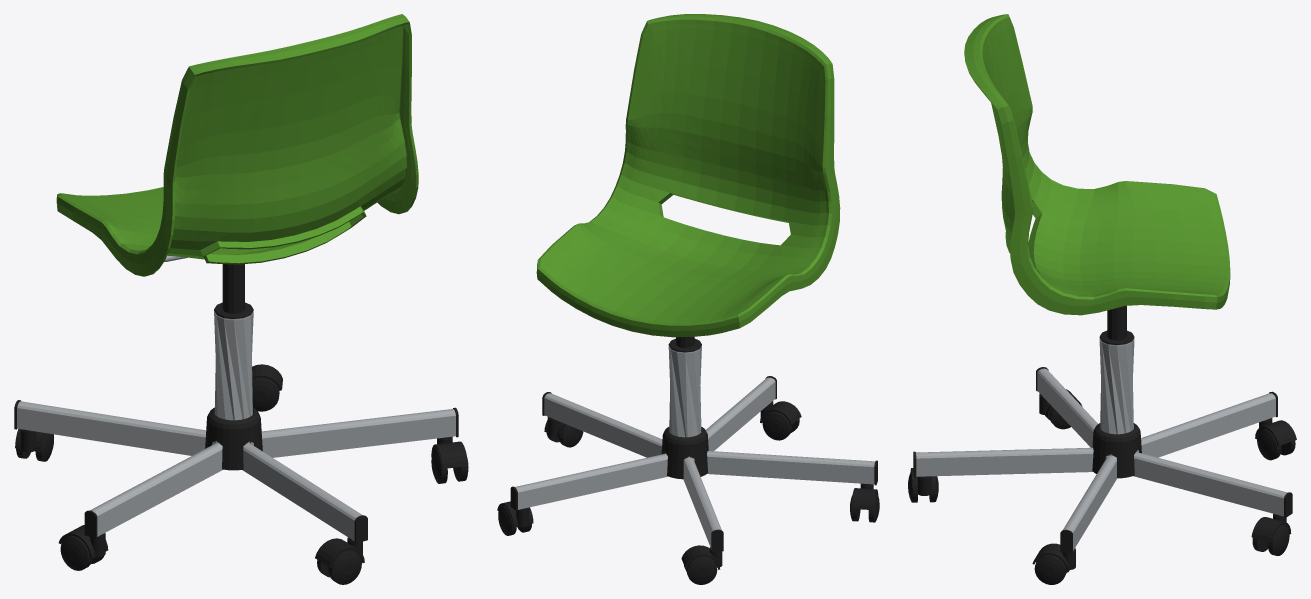
The picture shows the model from 3 angles, left to right: view 1: azimuth 30°, elevation 25°; view 2: azimuth 150°, elevation 25°; view 3: azimuth 270°, elevation 25°; orthographic projection. The views are drawn at different scales.
Visible parts, largest first — view 1: Mesh2 Group2 SNILLE_IKEA1 Model, Mesh8 Group6 SNILLE_IKEA1 Model, Mesh7 Group5 SNILLE_IKEA1 Model, Mesh1 Group1 SNILLE_IKEA1 Model, Mesh3 Group3 SNILLE_IKEA1 Model, Mesh20 ROULETTE4 SNILLE_IKEA1 Model, Mesh11 ROULETTE1 SNILLE_IKEA1 Model, Mesh12 ROULETTE2 SNILLE_IKEA1 Model, Mesh16 ROULETTE3 SNILLE_IKEA1 Model, Mesh18 ROULETTE4 SNILLE_IKEA1 Model, Mesh9 ROULETTE1 SNILLE_IKEA1 Model; view 2: Mesh2 Group2 SNILLE_IKEA1 Model, Mesh8 Group6 SNILLE_IKEA1 Model, Mesh7 Group5 SNILLE_IKEA1 Model, Mesh1 Group1 SNILLE_IKEA1 Model, Mesh23 ROULETTE5 SNILLE_IKEA1 Model, Mesh19 ROULETTE4 SNILLE_IKEA1 Model, Mesh9 ROULETTE1 SNILLE_IKEA1 Model, Mesh18 ROULETTE4 SNILLE_IKEA1 Model, Mesh21 ROULETTE5 SNILLE_IKEA1 Model; view 3: Mesh2 Group2 SNILLE_IKEA1 Model, Mesh8 Group6 SNILLE_IKEA1 Model, Mesh7 Group5 SNILLE_IKEA1 Model, Mesh1 Group1 SNILLE_IKEA1 Model, Mesh3 Group3 SNILLE_IKEA1 Model, Mesh14 ROULETTE2 SNILLE_IKEA1 Model, Mesh15 ROULETTE3 SNILLE_IKEA1 Model, Mesh21 ROULETTE5 SNILLE_IKEA1 Model, Mesh22 ROULETTE5 SNILLE_IKEA1 Model, Mesh12 ROULETTE2 SNILLE_IKEA1 Model.
Part boxes in pixels (bbox=[...]): Mesh2 Group2 SNILLE_IKEA1 Model: bbox=[56, 14, 418, 276]; Mesh8 Group6 SNILLE_IKEA1 Model: bbox=[14, 400, 458, 543]; Mesh7 Group5 SNILLE_IKEA1 Model: bbox=[214, 311, 253, 420]; Mesh1 Group1 SNILLE_IKEA1 Model: bbox=[205, 407, 262, 470]; Mesh3 Group3 SNILLE_IKEA1 Model: bbox=[214, 264, 253, 318]; Mesh20 ROULETTE4 SNILLE_IKEA1 Model: bbox=[328, 550, 361, 584]; Mesh11 ROULETTE1 SNILLE_IKEA1 Model: bbox=[60, 535, 92, 570]; Mesh12 ROULETTE2 SNILLE_IKEA1 Model: bbox=[431, 436, 468, 468]; Mesh16 ROULETTE3 SNILLE_IKEA1 Model: bbox=[252, 377, 279, 411]; Mesh18 ROULETTE4 SNILLE_IKEA1 Model: bbox=[315, 537, 364, 567]; Mesh9 ROULETTE1 SNILLE_IKEA1 Model: bbox=[58, 525, 108, 558]; Mesh2 Group2 SNILLE_IKEA1 Model: bbox=[536, 14, 840, 337]; Mesh8 Group6 SNILLE_IKEA1 Model: bbox=[510, 376, 877, 552]; Mesh7 Group5 SNILLE_IKEA1 Model: bbox=[668, 346, 701, 437]; Mesh1 Group1 SNILLE_IKEA1 Model: bbox=[661, 426, 708, 479]; Mesh23 ROULETTE5 SNILLE_IKEA1 Model: bbox=[686, 556, 717, 584]; Mesh19 ROULETTE4 SNILLE_IKEA1 Model: bbox=[762, 411, 791, 440]; Mesh9 ROULETTE1 SNILLE_IKEA1 Model: bbox=[851, 483, 878, 510]; Mesh18 ROULETTE4 SNILLE_IKEA1 Model: bbox=[760, 401, 801, 425]; Mesh21 ROULETTE5 SNILLE_IKEA1 Model: bbox=[681, 545, 722, 569]; Mesh2 Group2 SNILLE_IKEA1 Model: bbox=[964, 14, 1230, 315]; Mesh8 Group6 SNILLE_IKEA1 Model: bbox=[913, 367, 1292, 553]; Mesh7 Group5 SNILLE_IKEA1 Model: bbox=[1099, 338, 1134, 434]; Mesh1 Group1 SNILLE_IKEA1 Model: bbox=[1092, 423, 1141, 478]; Mesh3 Group3 SNILLE_IKEA1 Model: bbox=[1099, 306, 1134, 345]; Mesh14 ROULETTE2 SNILLE_IKEA1 Model: bbox=[1034, 555, 1066, 584]; Mesh15 ROULETTE3 SNILLE_IKEA1 Model: bbox=[1251, 514, 1291, 542]; Mesh21 ROULETTE5 SNILLE_IKEA1 Model: bbox=[1255, 418, 1296, 446]; Mesh22 ROULETTE5 SNILLE_IKEA1 Model: bbox=[1257, 429, 1281, 460]; Mesh12 ROULETTE2 SNILLE_IKEA1 Model: bbox=[1032, 543, 1075, 572].
Bounding box in the file's own units: 0.5971 × 0.742 × 0.5774.
